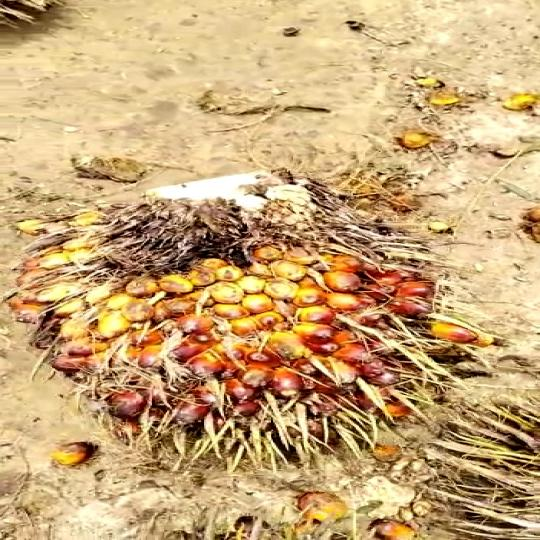masak: (10, 178, 504, 481)
